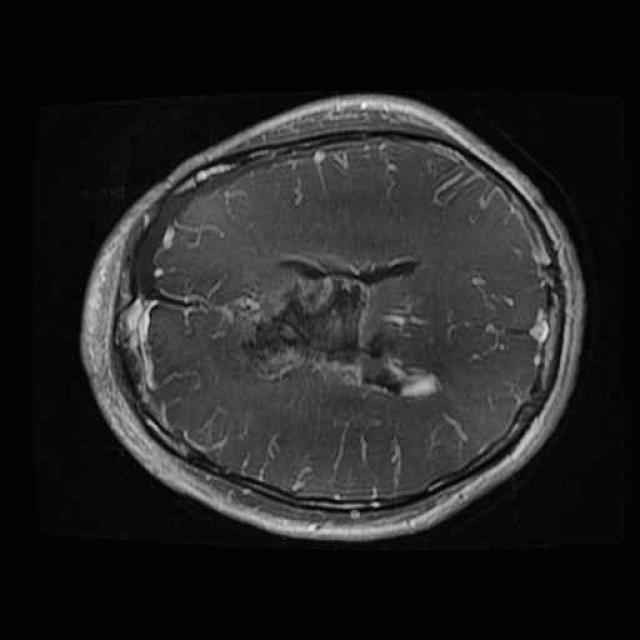Tumor: (233, 262, 393, 398)
